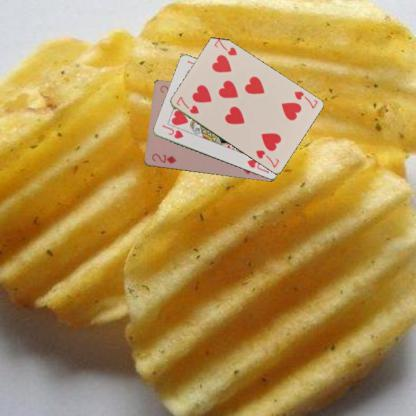2d: (149, 151, 177, 166)
7h: (291, 88, 319, 110), (173, 94, 200, 115)
Jh: (160, 122, 184, 140)
